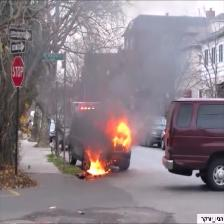fire: (112, 123, 131, 151), (89, 154, 105, 176)
smoke: (97, 57, 155, 122)
